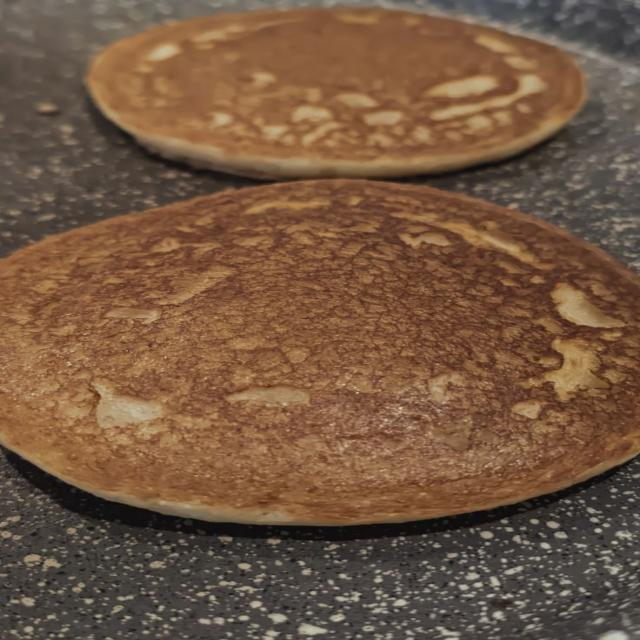pancake: (0, 181, 639, 525), (87, 8, 585, 177)
